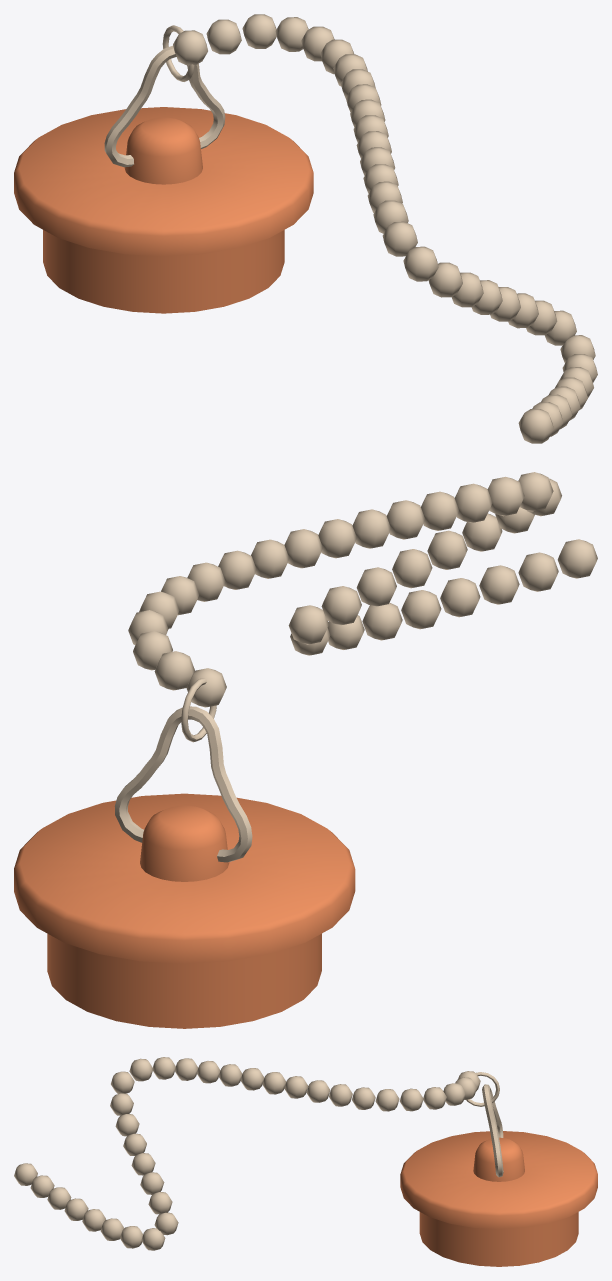
File: Plug.fbx
The picture shows the model from 3 angles, top to bottom: view 1: azimuth 30°, elevation 25°; view 2: azimuth 150°, elevation 25°; view 3: azimuth 270°, elevation 25°; orthographic projection. The views are drawn at different scales.
Parts seen in each view (by area): view 1: Plug; view 2: Plug; view 3: Plug.
Part boxes in pixels (<box>): Plug: <box>14,14,597,443</box>; Plug: <box>14,472,597,1028</box>; Plug: <box>14,1057,597,1266</box>.
Bounding box in the file's own units: 120 × 101 × 310.
